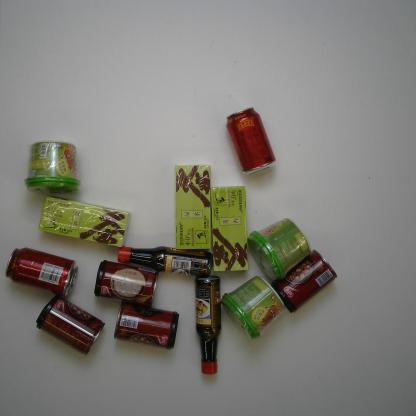Canned Food: (34, 292, 107, 358), (269, 249, 340, 316), (113, 298, 181, 352), (92, 258, 161, 310)
Drink: (222, 105, 278, 178), (3, 245, 80, 298)
Instant Drink: (36, 192, 132, 248), (218, 273, 288, 344), (246, 216, 313, 282), (207, 182, 252, 274), (171, 160, 214, 253), (22, 138, 84, 199)
Seasoner: (113, 241, 215, 279), (190, 273, 223, 376)
